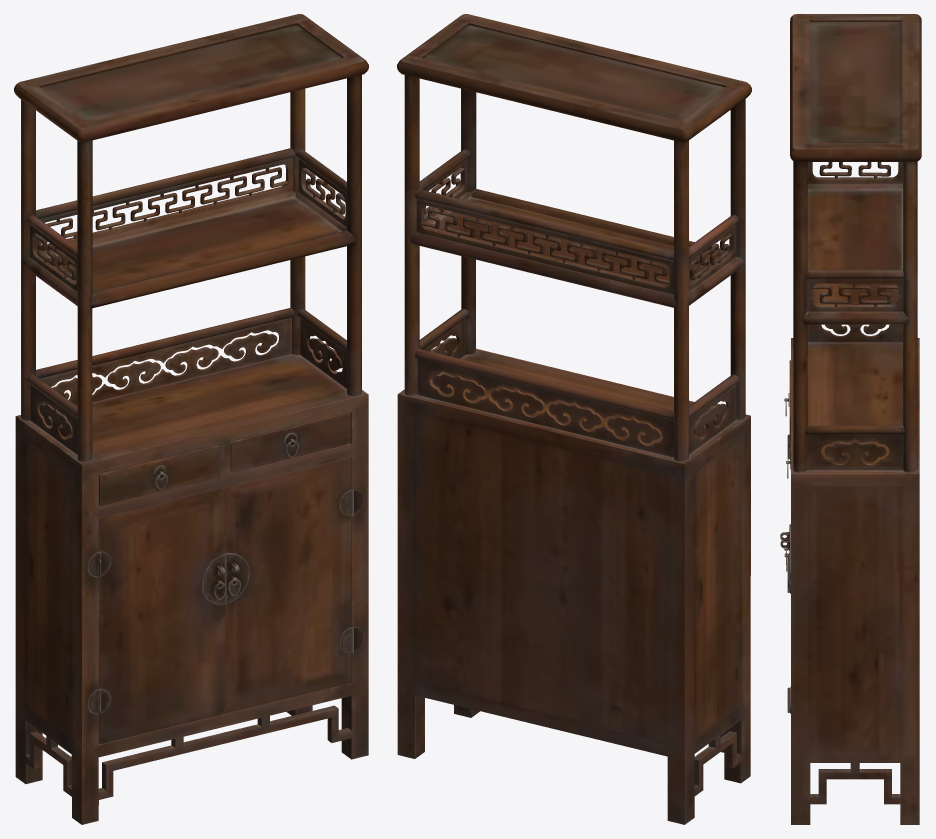
The model's file is chinese_cabinet.glb.
The picture shows the model from 3 angles, left to right: view 1: azimuth 30°, elevation 25°; view 2: azimuth 150°, elevation 25°; view 3: azimuth 270°, elevation 25°; orthographic projection. The views are drawn at different scales.
Parts seen in each view (by area): view 1: chinese_cabinet; view 2: chinese_cabinet; view 3: chinese_cabinet.
Part boxes in pixels (x1,y1,x2,y2): chinese_cabinet: [14, 14, 368, 824]; chinese_cabinet: [397, 14, 751, 824]; chinese_cabinet: [780, 14, 921, 824].
Bounding box in the file's own units: 1.26 × 2.87 × 0.5452.
Materials: 1 (1 with a texture image).
